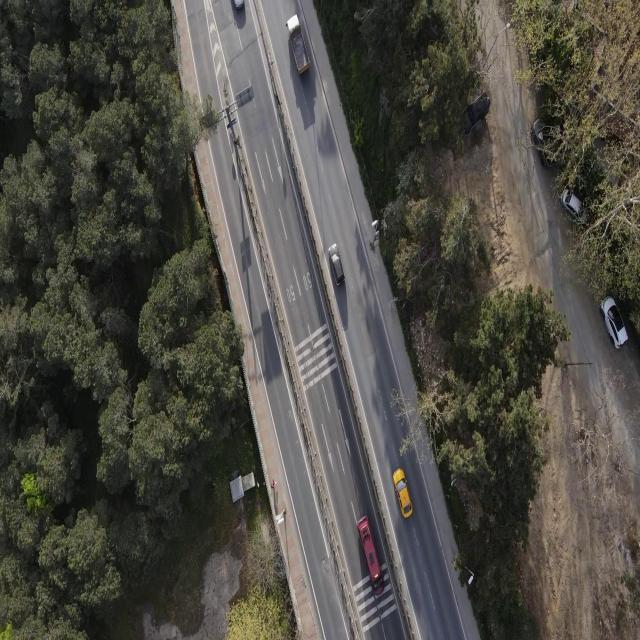p3rson: (270, 478, 276, 492)
